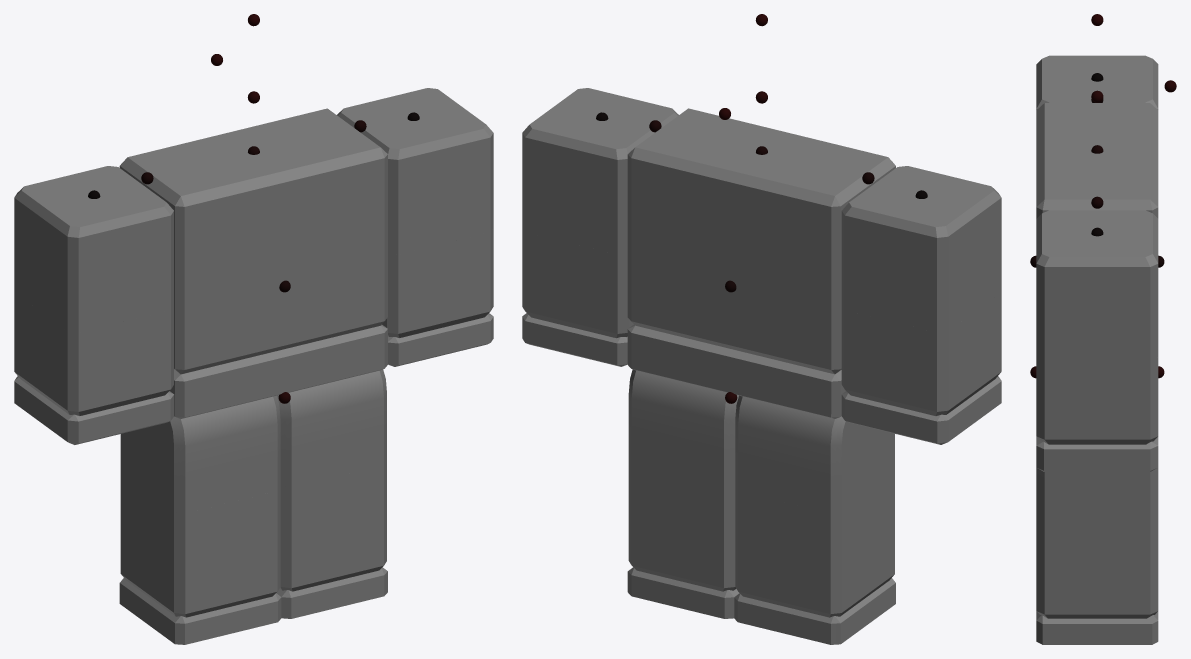
Rendered from roblox-r15.gltf.
The picture shows the model from 3 angles, left to right: view 1: azimuth 30°, elevation 25°; view 2: azimuth 150°, elevation 25°; view 3: azimuth 270°, elevation 25°; orthographic projection.
Visible parts, largest first — view 1: UpperTorso_Geo, LeftUpperArm_Geo, LeftLowerLeg_Geo, RightUpperArm_Geo, LeftUpperLeg_Geo, LeftLowerArm_Geo, RightLowerLeg_Geo, RightUpperLeg_Geo, LowerTorso_Geo, RightLowerArm_Geo, LeftHand_Geo, LeftFoot_Geo (+2 smaller); view 2: UpperTorso_Geo, LeftUpperArm_Geo, LeftLowerLeg_Geo, RightUpperArm_Geo, LeftUpperLeg_Geo, LeftLowerArm_Geo, RightLowerLeg_Geo, RightUpperLeg_Geo, LowerTorso_Geo, RightLowerArm_Geo, LeftHand_Geo, LeftFoot_Geo (+2 smaller); view 3: RightUpperArm_Geo, UpperTorso_Geo, RightLowerLeg_Geo, RightLowerArm_Geo, LeftUpperArm_Geo, RightUpperLeg_Geo, RightHand_Geo, RightFoot_Geo.
Boxes of the visible parts, <box> form: UpperTorso_Geo: <box>119,108,387,374</box>; LeftUpperArm_Geo: <box>14,166,173,332</box>; LeftLowerLeg_Geo: <box>120,473,280,617</box>; RightUpperArm_Geo: <box>337,88,493,254</box>; LeftUpperLeg_Geo: <box>120,395,280,513</box>; LeftLowerArm_Geo: <box>14,292,173,415</box>; RightLowerLeg_Geo: <box>279,461,386,591</box>; RightUpperLeg_Geo: <box>277,369,386,487</box>; LowerTorso_Geo: <box>170,324,387,418</box>; RightLowerArm_Geo: <box>382,228,493,337</box>; LeftHand_Geo: <box>14,376,174,444</box>; LeftFoot_Geo: <box>119,578,281,644</box>; UpperTorso_Geo: <box>627,108,895,374</box>; LeftUpperArm_Geo: <box>841,166,1001,332</box>; LeftLowerLeg_Geo: <box>735,473,894,617</box>; RightUpperArm_Geo: <box>522,88,678,254</box>; LeftUpperLeg_Geo: <box>735,395,894,513</box>; LeftLowerArm_Geo: <box>841,292,1001,415</box>; RightLowerLeg_Geo: <box>628,460,735,591</box>; RightUpperLeg_Geo: <box>628,369,738,487</box>; LowerTorso_Geo: <box>627,324,845,418</box>; RightLowerArm_Geo: <box>522,228,633,338</box>; LeftHand_Geo: <box>841,376,1001,444</box>; LeftFoot_Geo: <box>734,578,895,644</box>; RightUpperArm_Geo: <box>1036,210,1158,360</box>; UpperTorso_Geo: <box>1036,103,1158,218</box>; RightLowerLeg_Geo: <box>1036,511,1158,618</box>; RightLowerArm_Geo: <box>1036,357,1158,444</box>; LeftUpperArm_Geo: <box>1036,55,1158,109</box>; RightUpperLeg_Geo: <box>1036,467,1158,514</box>; RightHand_Geo: <box>1036,436,1158,471</box>; RightFoot_Geo: <box>1036,611,1158,644</box>.
Size of the model in its own units: 4 by 5.29 by 1.2.
35 materials, 1 textured.
